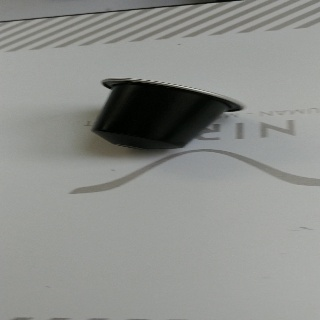capsule_10: (90, 77, 245, 150)
